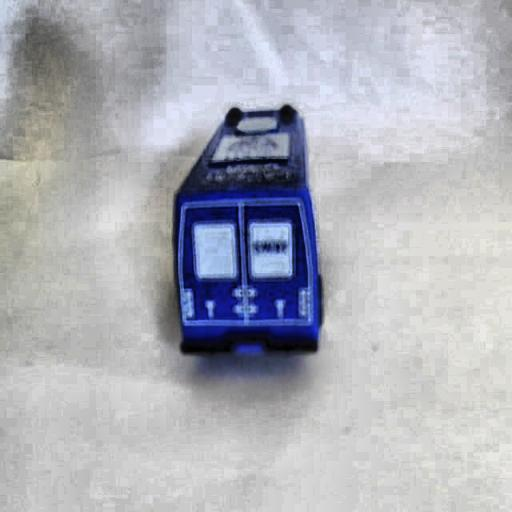police car: (173, 113, 324, 363)
